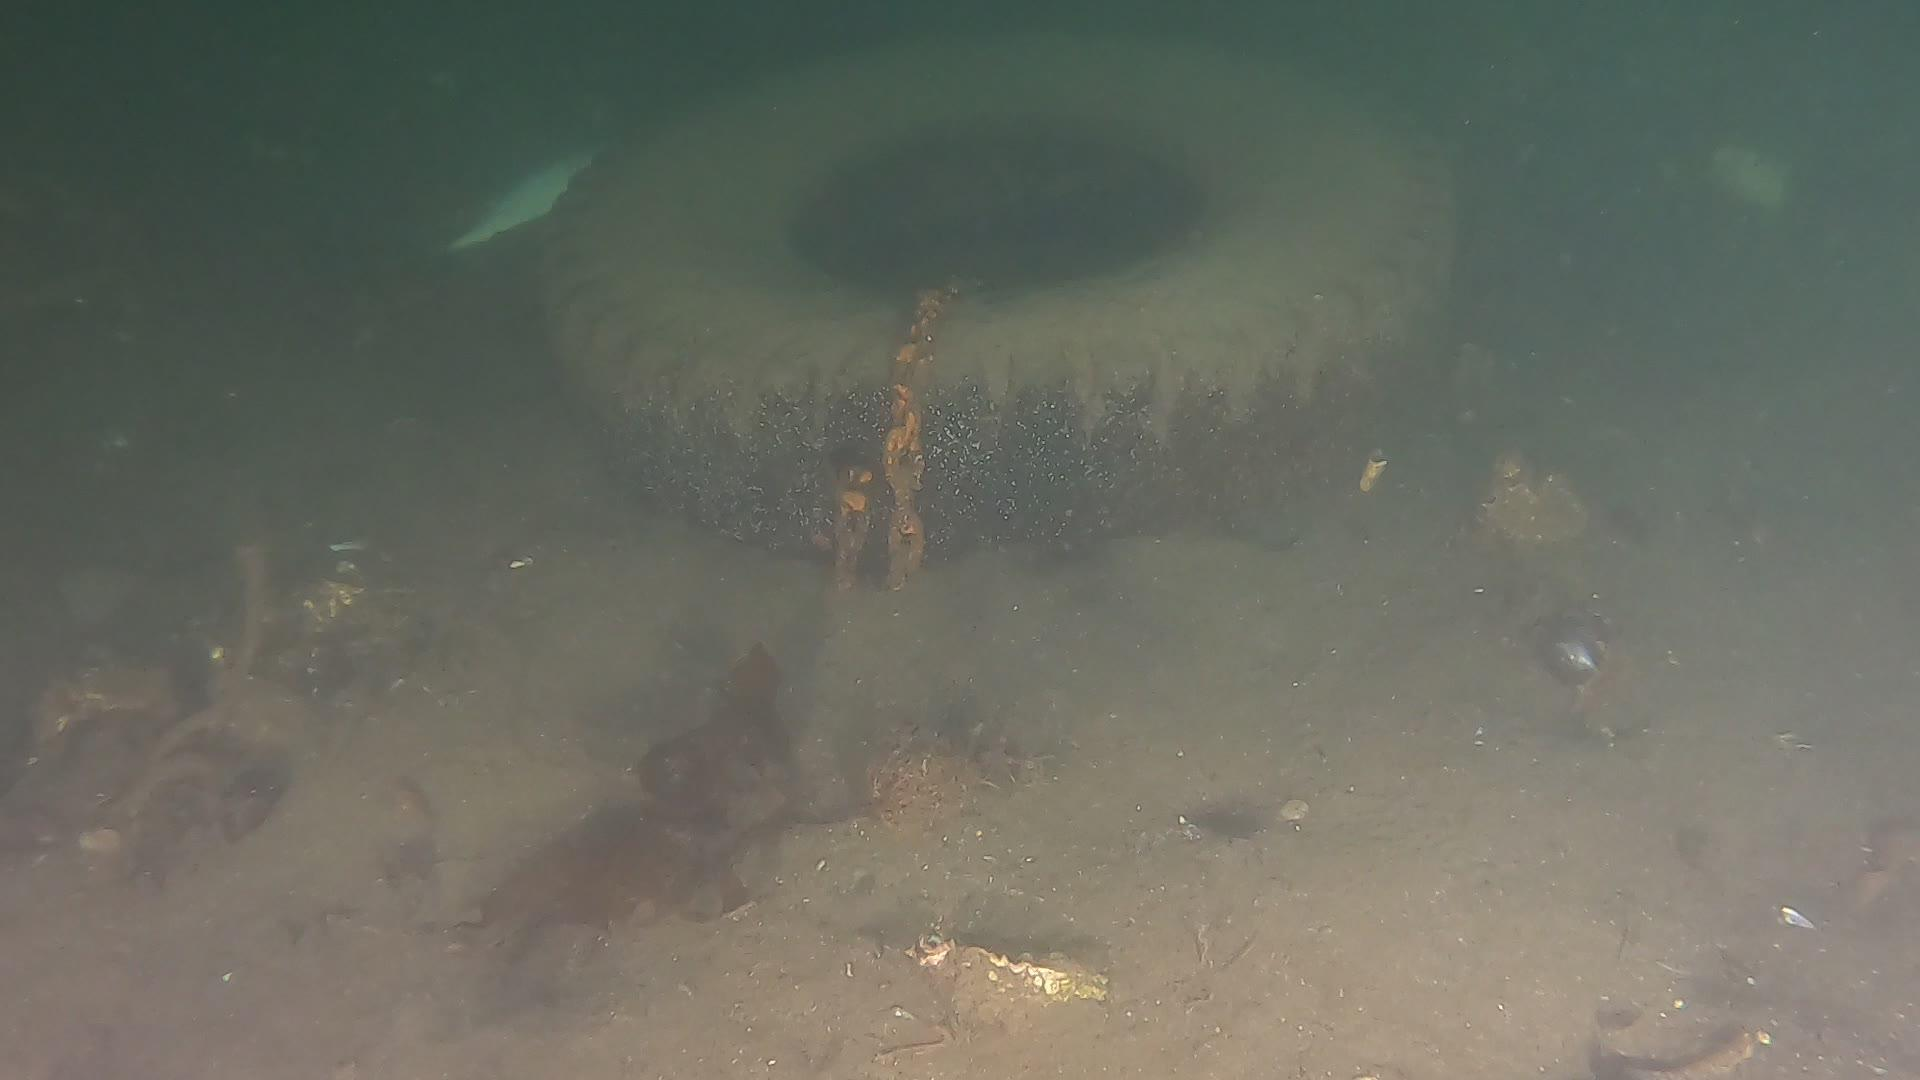tire: (527, 26, 1453, 566)
